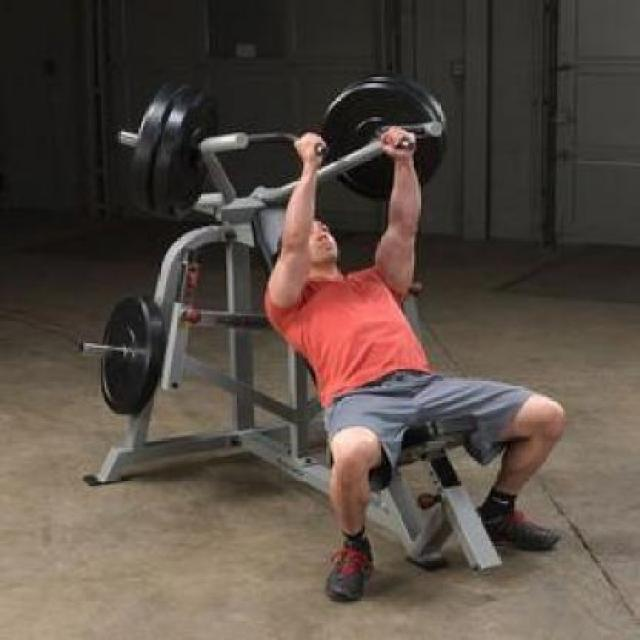shoulder press machine: (64, 55, 636, 616)
